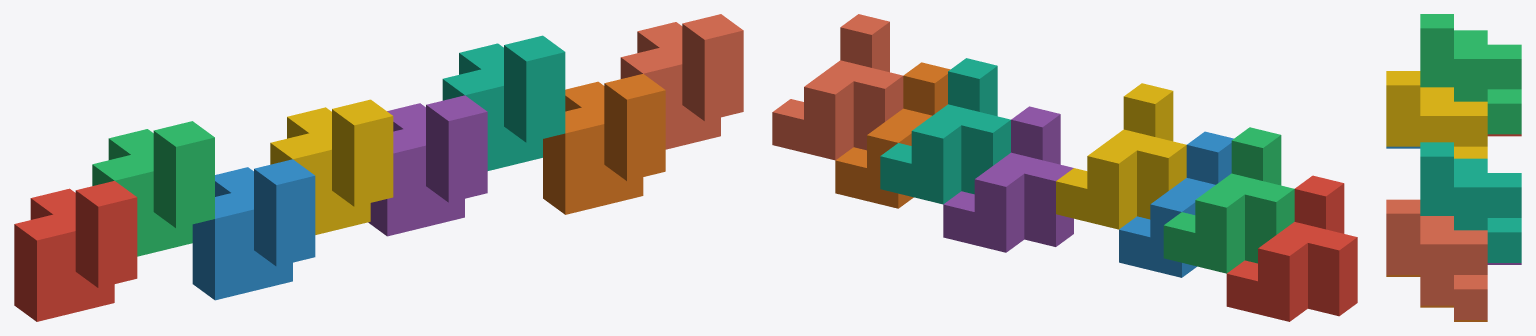
The model's file is tiling.obj.
3 renders of one model, left to right at view 1: azimuth 30°, elevation 25°; view 2: azimuth 150°, elevation 25°; view 3: azimuth 270°, elevation 25°, orthographic. The views are drawn at different scales.
Visible parts, largest first — view 1: copy_1_domain_1, copy_1_domain_2, copy_1_domain_6, copy_1_domain_5, copy_1_domain_4, copy_1_domain_7, copy_1_domain_8, copy_1_domain_3; view 2: copy_1_domain_1, copy_1_domain_5, copy_1_domain_3, copy_1_domain_4, copy_1_domain_8, copy_1_domain_7, copy_1_domain_2, copy_1_domain_6; view 3: copy_1_domain_8, copy_1_domain_3, copy_1_domain_7, copy_1_domain_4, copy_1_domain_6.
Part boxes in pixels (bbox=[...]): copy_1_domain_1: bbox=[14, 181, 137, 321]; copy_1_domain_2: bbox=[192, 159, 315, 300]; copy_1_domain_6: bbox=[543, 74, 665, 214]; copy_1_domain_5: bbox=[368, 95, 487, 236]; copy_1_domain_4: bbox=[270, 99, 393, 234]; copy_1_domain_7: bbox=[442, 35, 565, 170]; copy_1_domain_8: bbox=[620, 14, 743, 149]; copy_1_domain_3: bbox=[92, 121, 214, 256]; copy_1_domain_1: bbox=[1226, 175, 1357, 321]; copy_1_domain_5: bbox=[943, 106, 1073, 252]; copy_1_domain_3: bbox=[1163, 127, 1294, 273]; copy_1_domain_4: bbox=[1056, 83, 1186, 229]; copy_1_domain_8: bbox=[772, 14, 903, 160]; copy_1_domain_7: bbox=[880, 58, 1010, 204]; copy_1_domain_2: bbox=[1119, 131, 1233, 277]; copy_1_domain_6: bbox=[835, 62, 950, 208]; copy_1_domain_8: bbox=[1386, 199, 1487, 319]; copy_1_domain_3: bbox=[1420, 14, 1521, 134]; copy_1_domain_7: bbox=[1420, 142, 1521, 262]; copy_1_domain_4: bbox=[1386, 71, 1487, 158]; copy_1_domain_6: bbox=[1386, 275, 1487, 321].
Size of the model in its own units: 18 by 4 by 4.
